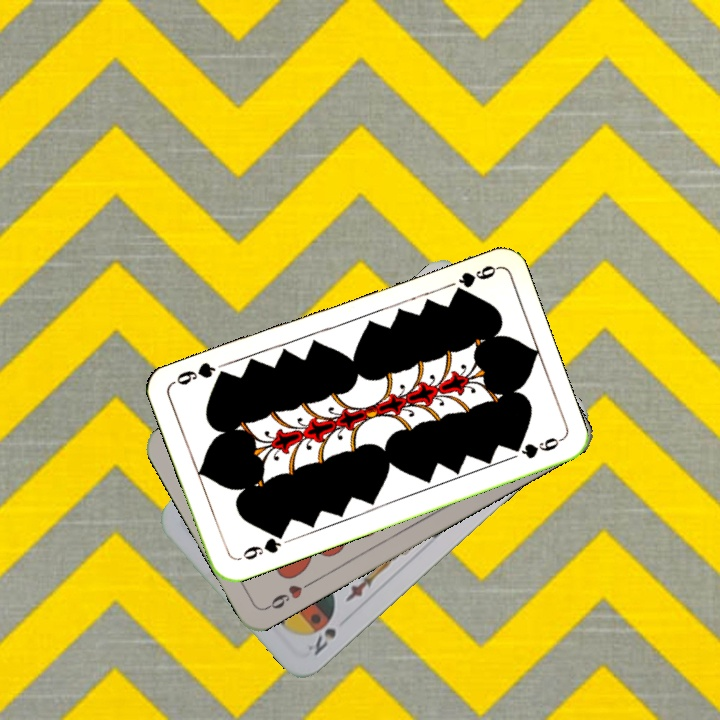G9: (234, 528, 288, 563), (450, 261, 500, 296)
H9: (261, 577, 316, 612)
SK: (303, 624, 339, 659)
